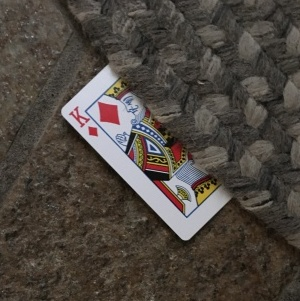card: (60, 62, 239, 239)
